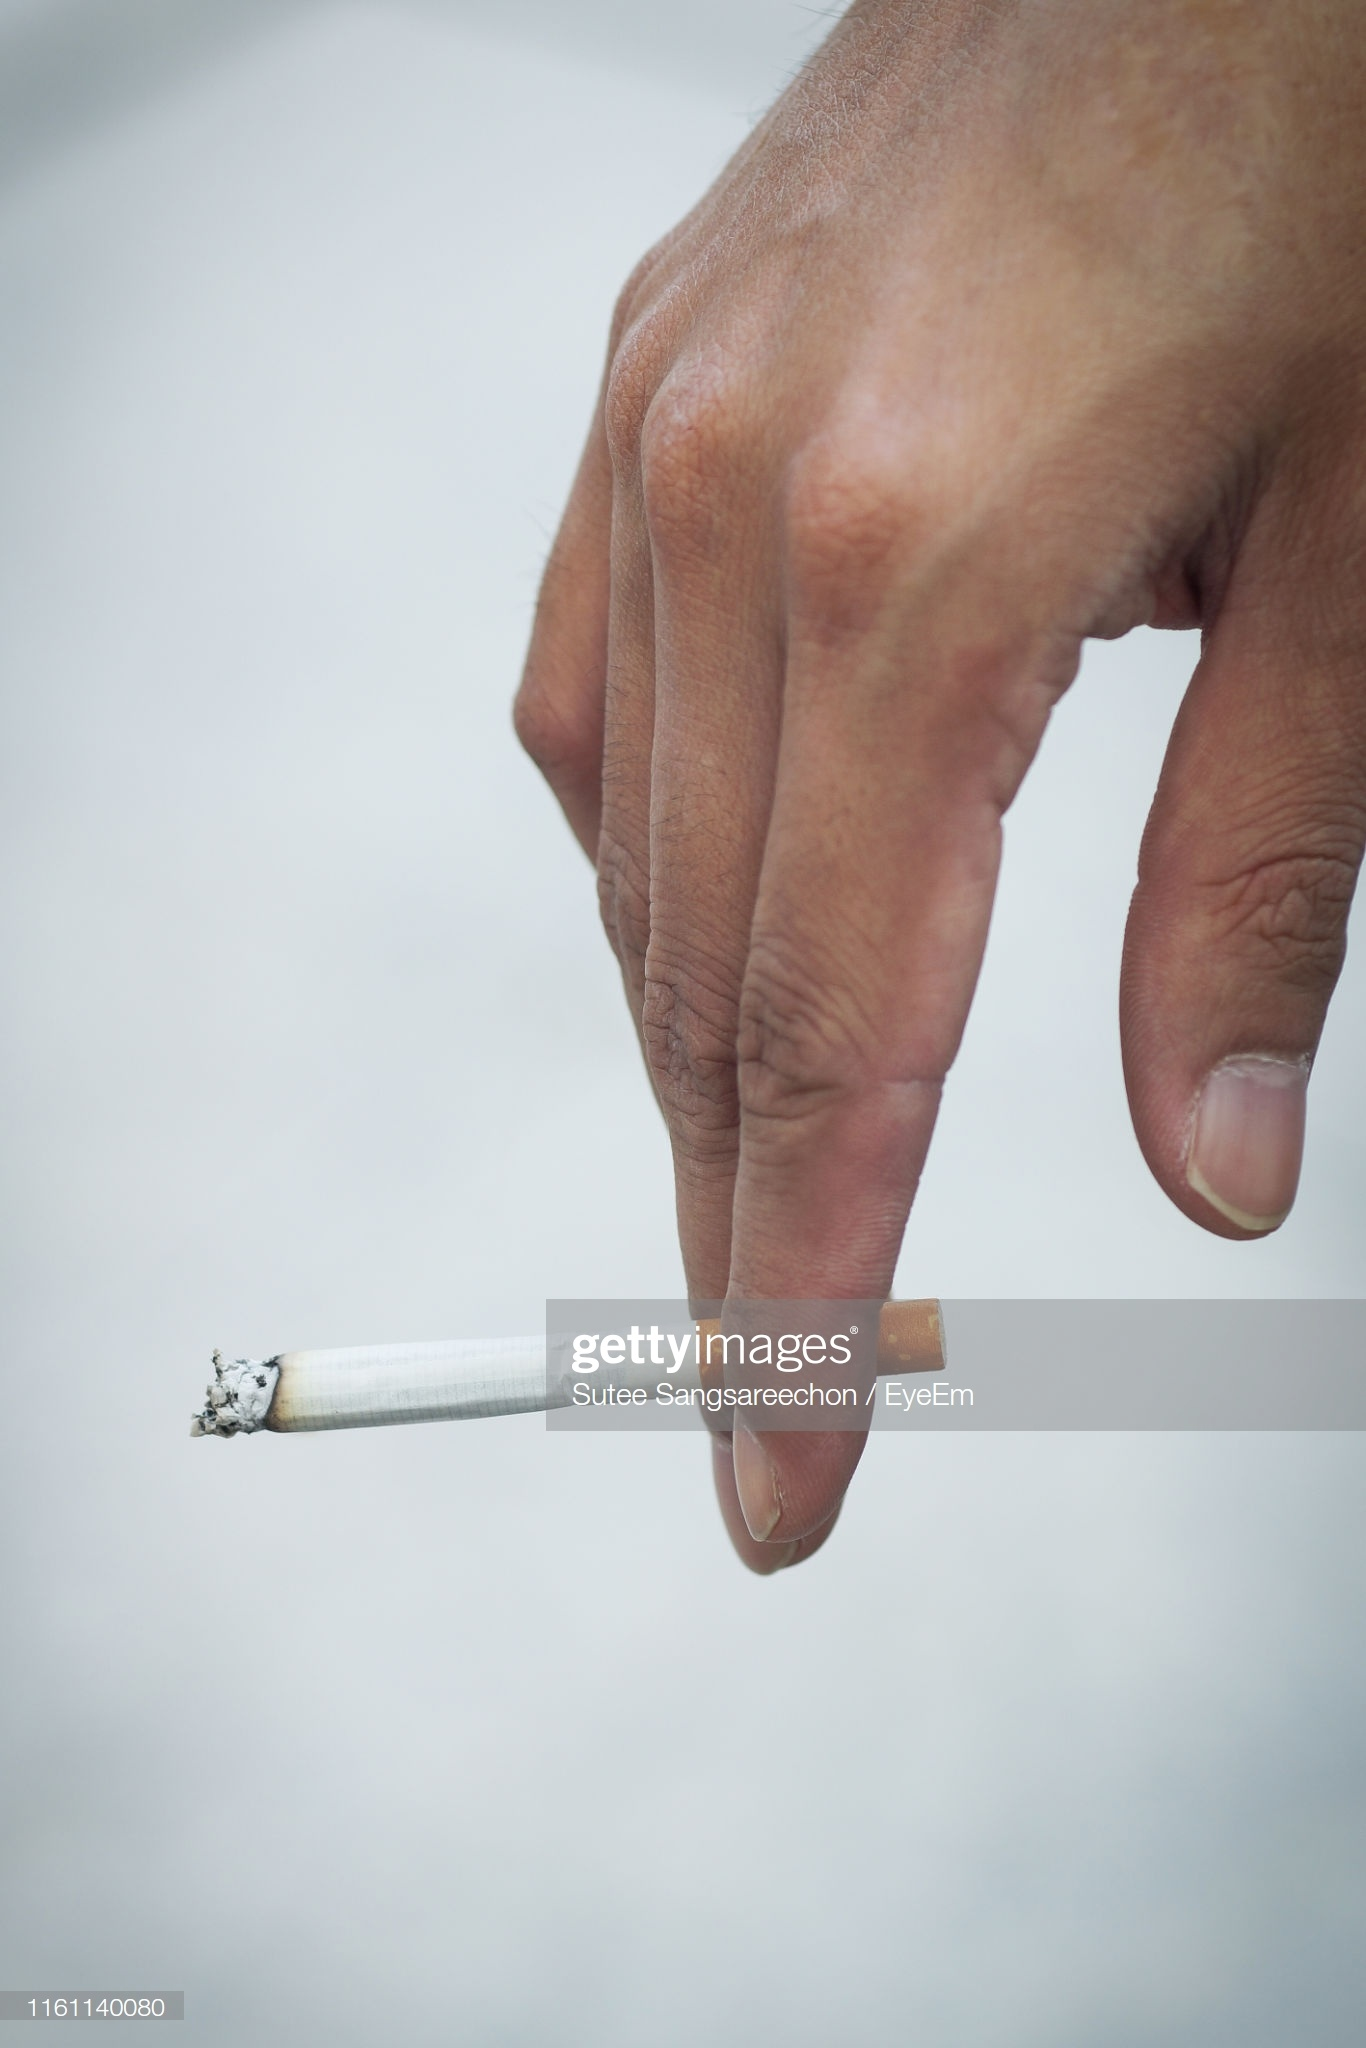sigaretta: (256, 1269, 962, 1464)
